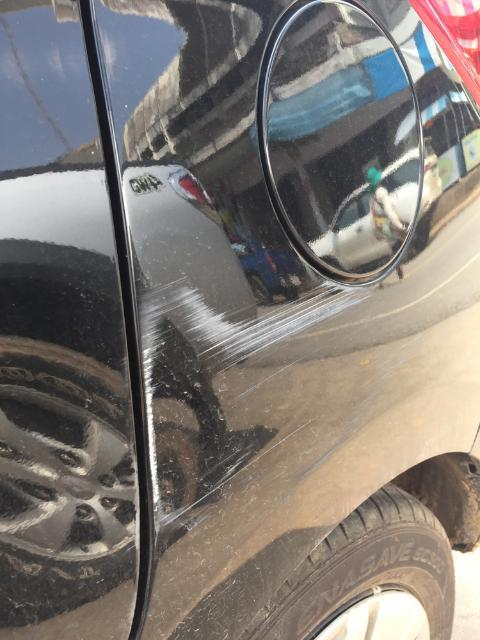scratch: (133, 269, 376, 547)
